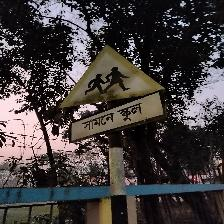School-in-front: (59, 44, 168, 143)
